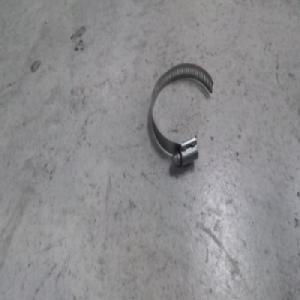AdjustableClamp: (147, 49, 217, 157)
